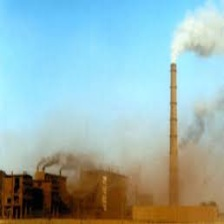smoke: (38, 128, 116, 189), (172, 11, 221, 61)
